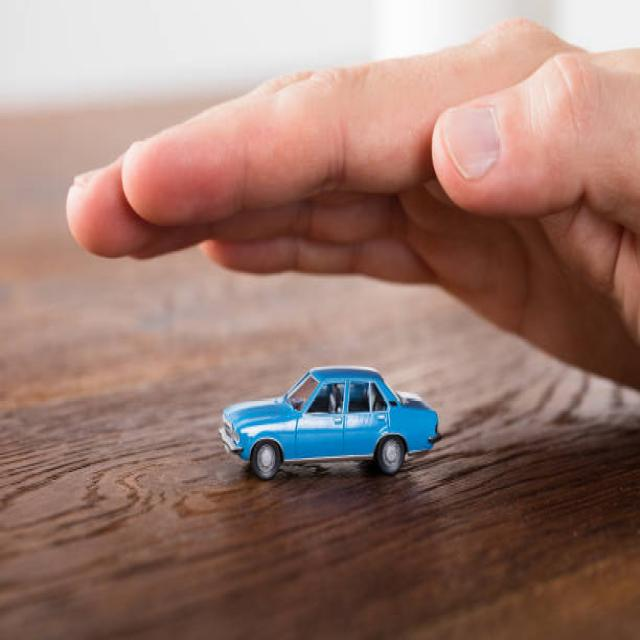Car: (218, 364, 442, 480)
